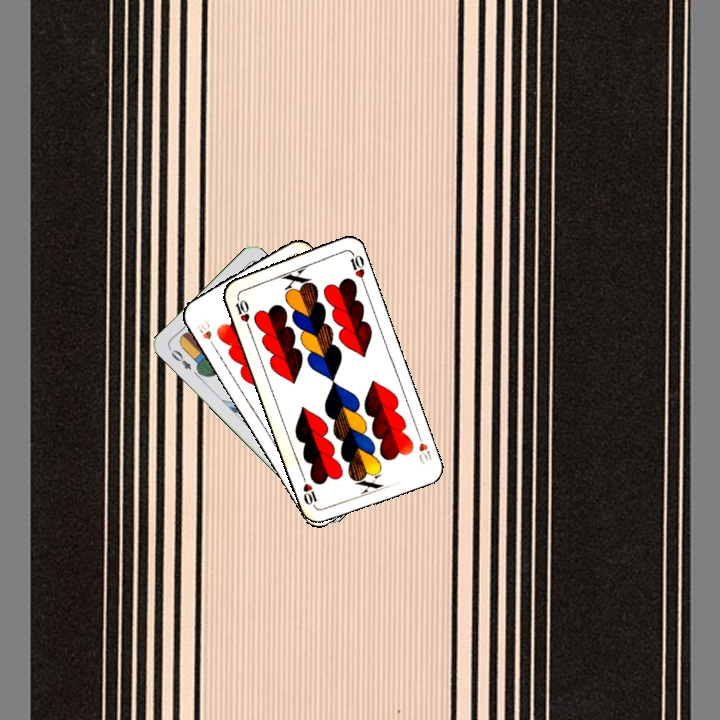EO: (167, 345, 194, 373)
H10: (192, 316, 219, 352), (231, 292, 253, 331), (413, 427, 434, 467)
